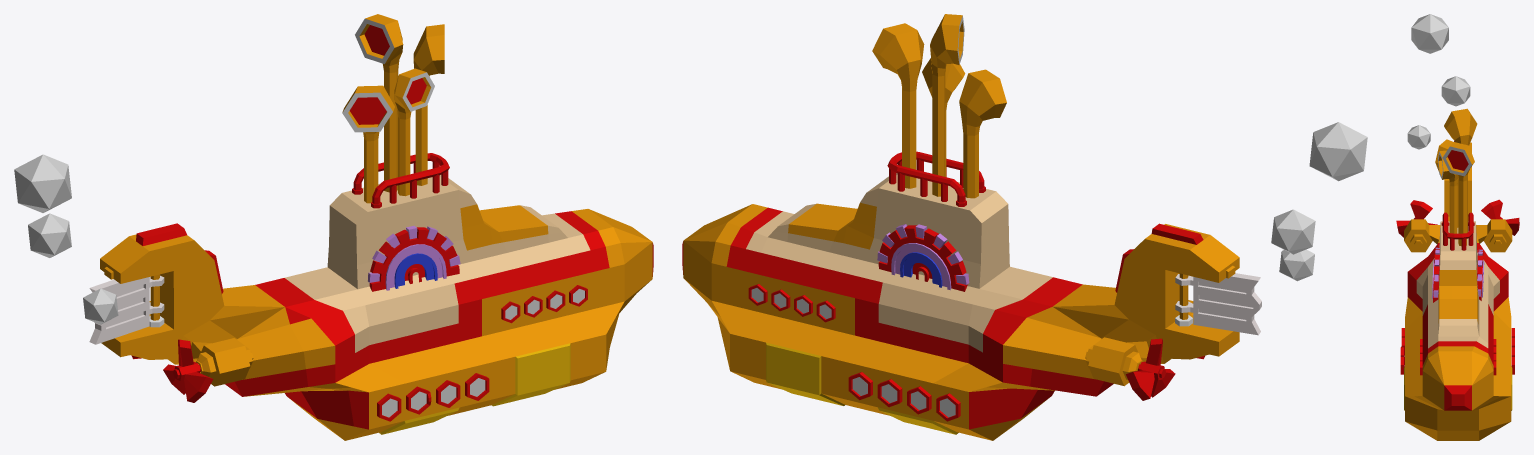
Rendered from ESub.fbx.
The picture shows the model from 3 angles, left to right: view 1: azimuth 30°, elevation 25°; view 2: azimuth 150°, elevation 25°; view 3: azimuth 270°, elevation 25°; orthographic projection. The views are drawn at different scales.
Parts seen in each view (by area): view 1: Cube.000, Circle, Cube.004, Cylinder.007, Cube.001, Icosphere.001, Cube.002, Cube.003, Cylinder, Cylinder.005, Icosphere.002, Cylinder.008 (+2 smaller); view 2: Cube.000, Cylinder.007, Circle.001, Cube.003, Cube.001, Cube.004, Icosphere.001, Cylinder.004, Cylinder.006, Icosphere.002, Cylinder.009, Cylinder.001 (+3 smaller); view 3: Cube.000, Cube.003, Icosphere.001, Cube.004, Cube.002, Icosphere.002, Cylinder.006, Cylinder.005, Icosphere, Cylinder.001, Circle, Circle.001 (+5 smaller).
Part boxes in pixels (x1,y1,x2,y2): Cube.000: [100, 175, 653, 440]; Circle: [368, 225, 460, 291]; Cube.004: [355, 14, 403, 192]; Cylinder.007: [89, 274, 164, 344]; Cube.001: [342, 85, 394, 203]; Icosphere.001: [14, 154, 71, 212]; Cube.002: [394, 68, 434, 196]; Cube.003: [413, 24, 444, 185]; Cylinder: [377, 373, 489, 421]; Cylinder.005: [163, 339, 213, 402]; Icosphere.002: [28, 213, 71, 257]; Cylinder.008: [501, 285, 587, 323]; Cube.000: [682, 173, 1239, 440]; Cylinder.007: [1175, 273, 1261, 335]; Circle.001: [877, 224, 969, 291]; Cube.003: [872, 23, 924, 188]; Cube.001: [959, 69, 1006, 198]; Cube.004: [930, 14, 964, 196]; Icosphere.001: [1309, 122, 1367, 181]; Cylinder.004: [848, 372, 960, 421]; Cylinder.006: [1126, 338, 1175, 400]; Icosphere.002: [1271, 209, 1315, 254]; Cylinder.009: [748, 284, 835, 322]; Cylinder.001: [887, 151, 985, 206]; Cube.000: [1404, 141, 1512, 440]; Cube.003: [1442, 142, 1474, 246]; Icosphere.001: [1411, 14, 1448, 53]; Cube.004: [1444, 108, 1477, 232]; Cube.002: [1438, 150, 1457, 233]; Icosphere.002: [1441, 76, 1470, 106]; Cylinder.006: [1481, 199, 1519, 235]; Cylinder.005: [1396, 200, 1437, 237]; Icosphere: [1407, 125, 1430, 149]; Cylinder.001: [1441, 212, 1474, 239]; Circle: [1432, 247, 1439, 302]; Circle.001: [1477, 249, 1484, 300].
Size of the model in its own units: 1123 by 656 by 272.
